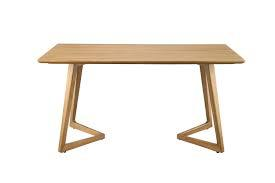desk: (36, 24, 247, 160)
